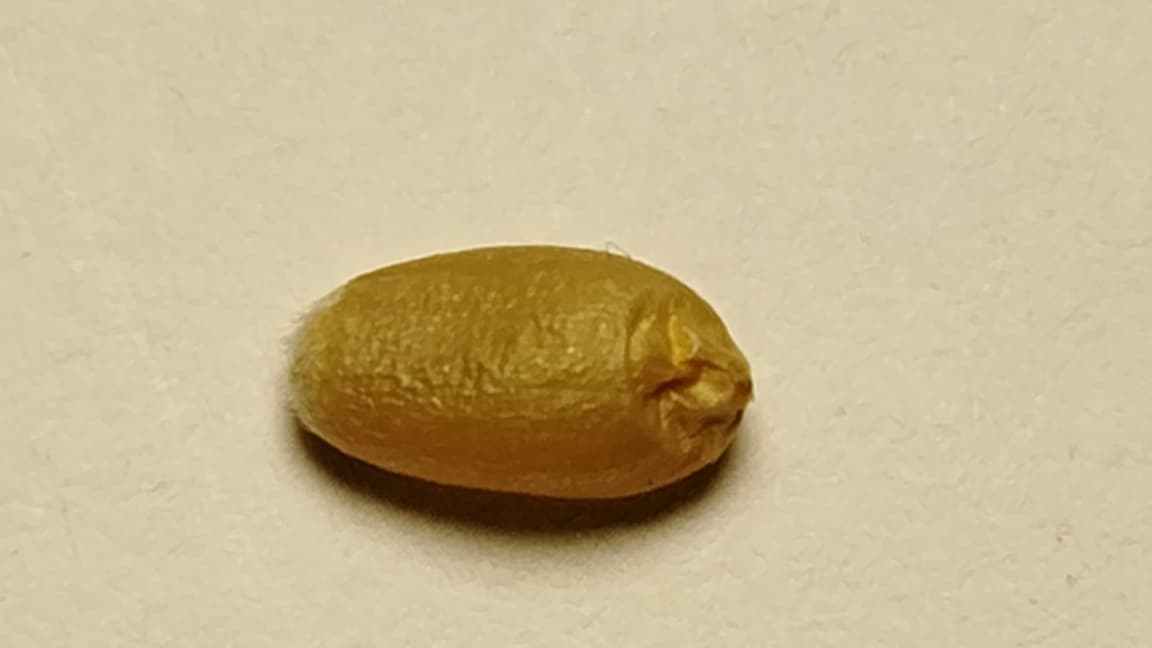healthy: (288, 249, 752, 489)
